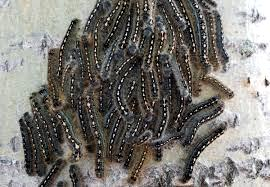Caterpillar: (181, 123, 231, 183), (82, 92, 109, 177), (112, 58, 139, 123), (190, 0, 214, 71), (25, 112, 50, 177), (29, 99, 52, 162), (175, 0, 199, 56), (15, 114, 35, 180), (104, 0, 130, 48), (57, 113, 83, 161), (44, 47, 64, 107), (40, 90, 62, 144), (213, 8, 231, 67), (107, 54, 134, 92), (203, 72, 237, 102), (57, 17, 74, 76), (159, 0, 176, 58), (127, 147, 150, 185), (165, 0, 189, 33), (35, 159, 63, 187), (138, 73, 154, 122), (101, 37, 119, 78), (128, 0, 142, 47), (157, 99, 173, 140), (179, 53, 194, 95), (82, 0, 101, 33), (102, 0, 121, 32), (142, 30, 156, 71), (108, 118, 121, 161), (91, 33, 105, 72), (175, 86, 187, 125), (68, 165, 87, 187), (67, 77, 78, 111), (134, 129, 154, 147), (149, 66, 160, 95), (155, 144, 164, 163)
